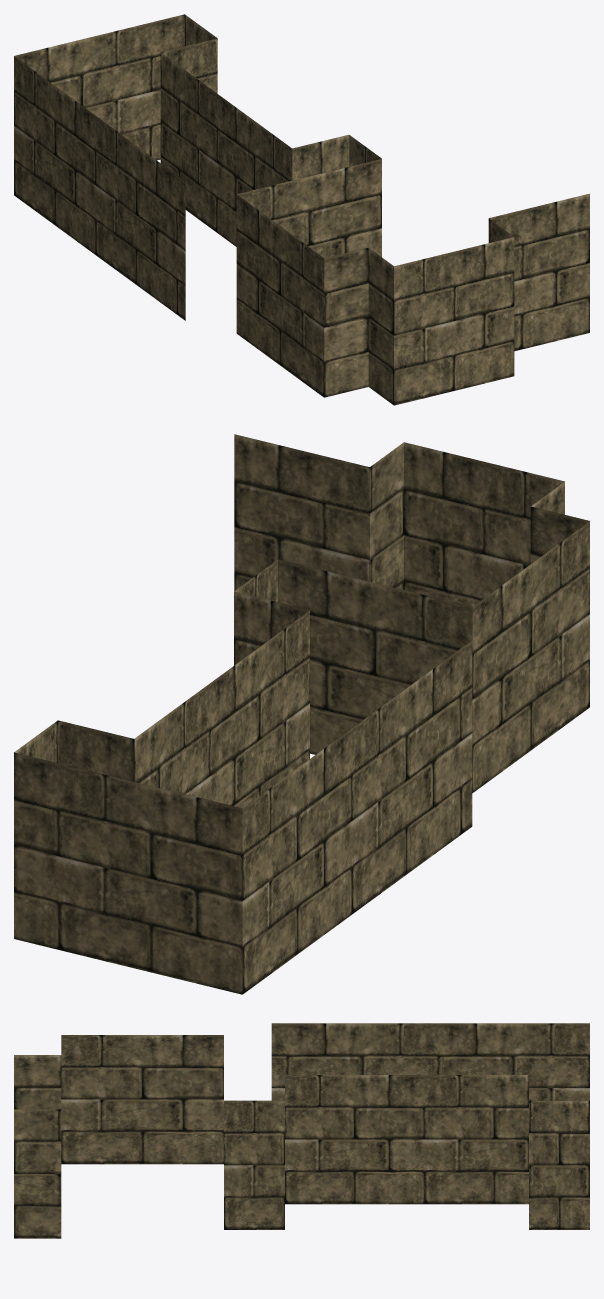
File: OVERHILL_A_01_LINE389.fbx
The picture shows the model from 3 angles, top to bottom: view 1: azimuth 30°, elevation 25°; view 2: azimuth 150°, elevation 25°; view 3: azimuth 270°, elevation 25°; orthographic projection. The views are drawn at different scales.
Parts seen in each view (by area): view 1: OVERHILL_A_01_LINE389; view 2: OVERHILL_A_01_LINE389; view 3: OVERHILL_A_01_LINE389.
Part boxes in pixels (x1=…): OVERHILL_A_01_LINE389: x1=14, y1=14, x2=589, y2=405; OVERHILL_A_01_LINE389: x1=14, y1=434, x2=589, y2=994; OVERHILL_A_01_LINE389: x1=14, y1=1023, x2=589, y2=1238.
Size of the model in its own units: 46000 by 21050 by 85000.
Materials: 1 (1 with a texture image).
